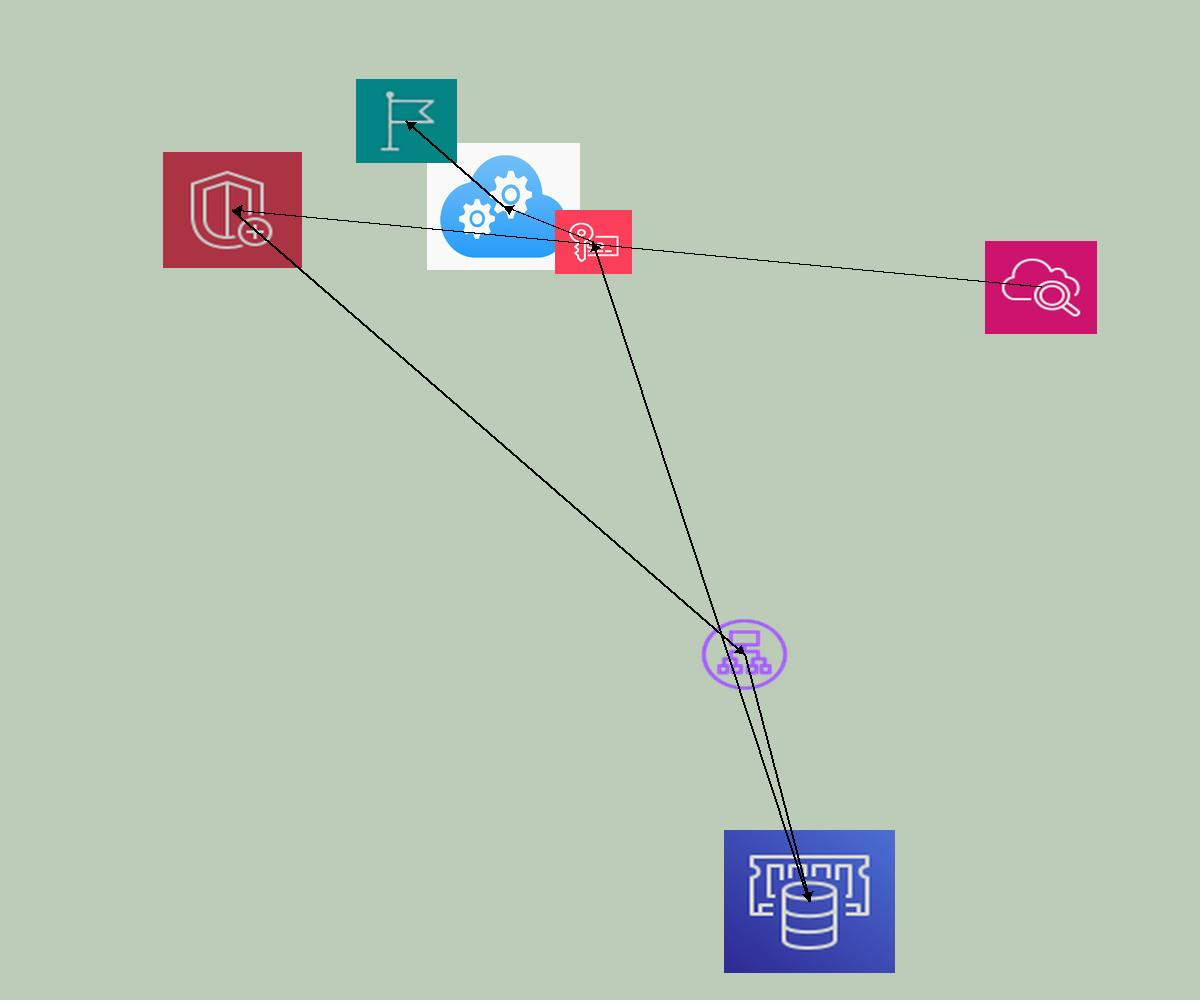AWS-CloudWatch: (985, 241, 1097, 334)
AWS-ElastiCache: (724, 830, 895, 973)
AWS-Key-Management-Service: (555, 210, 632, 274)
AWS-Region: (356, 79, 457, 163)
AWS-Res_Elastic-Load-Balancing_Application-Load-Balancer: (698, 616, 791, 693)
AWS-Shield: (163, 152, 302, 268)
Azure_cloud_services: (427, 143, 580, 270)
